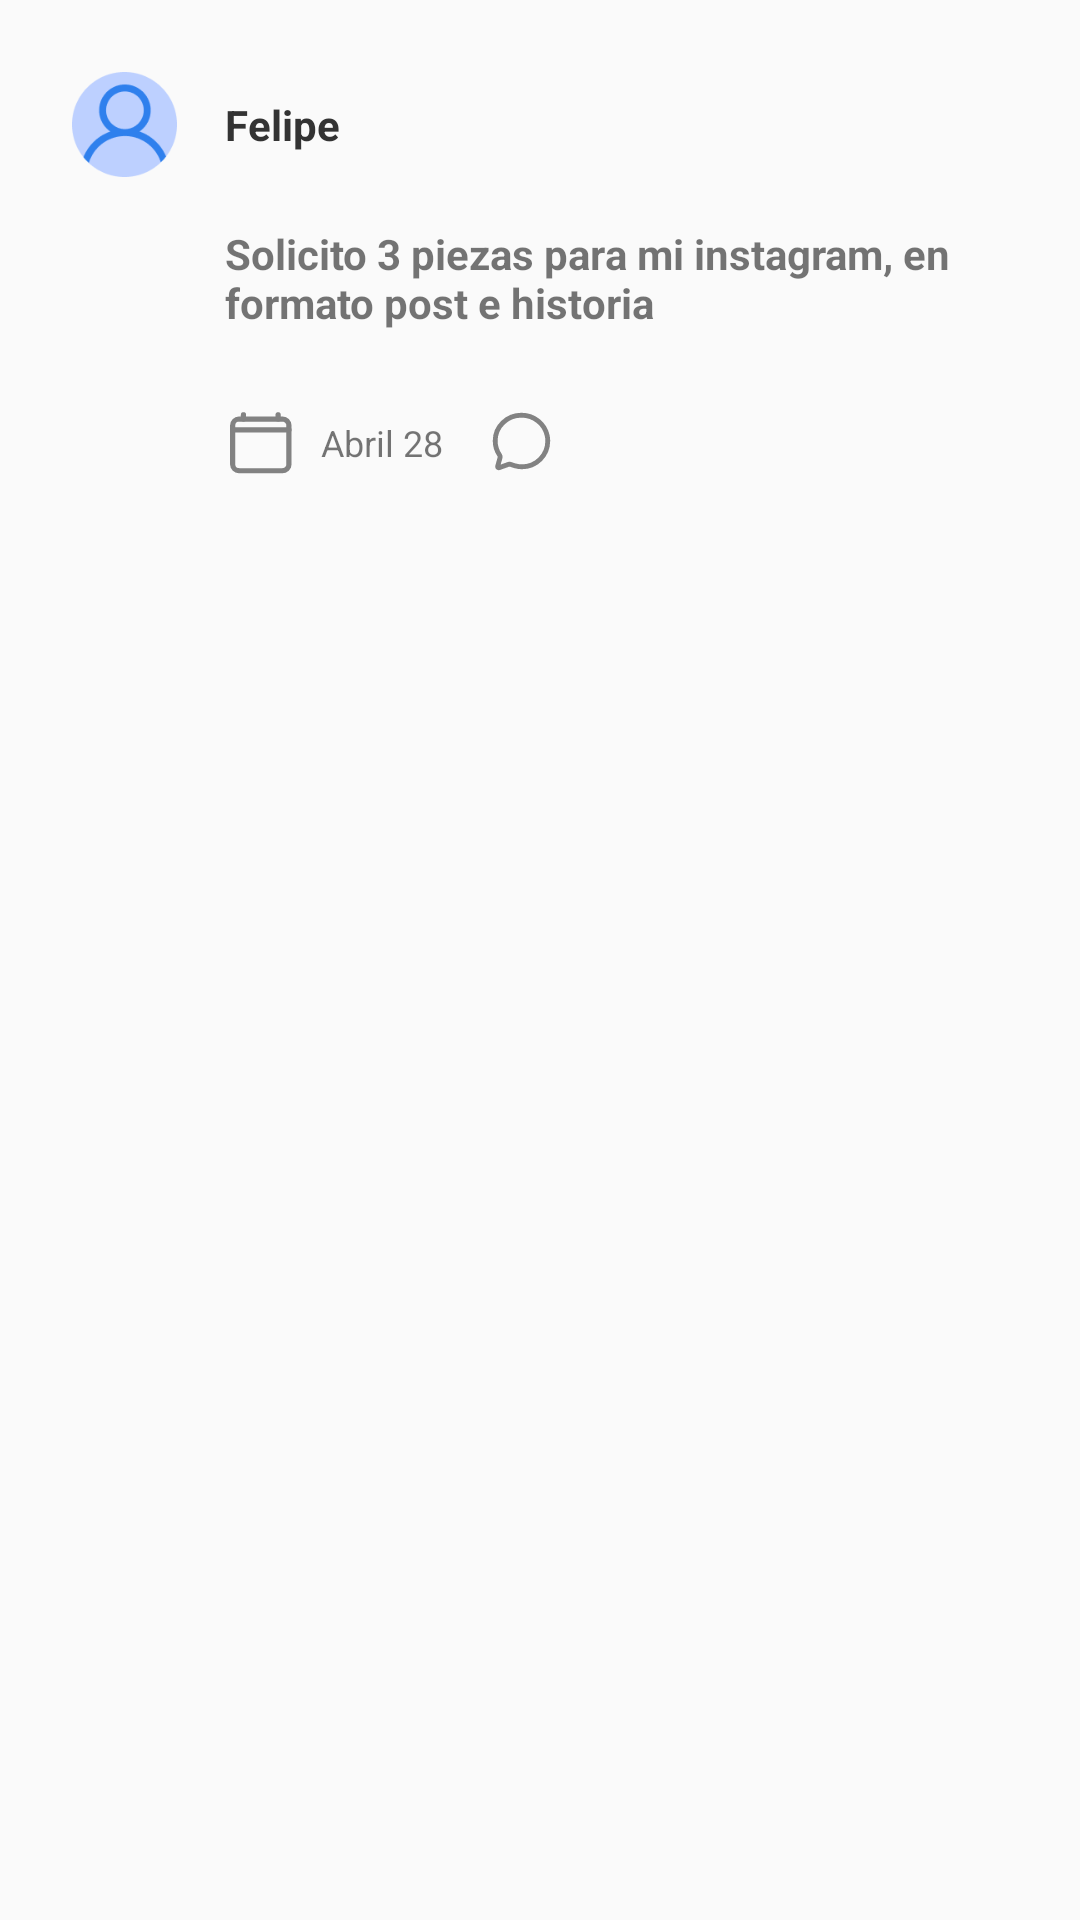

Where to tap for icons on this 1080 × 1920 app screen, as (x=x, y=y):
calendar clear: (x=261, y=443)
coment: (x=521, y=441)
